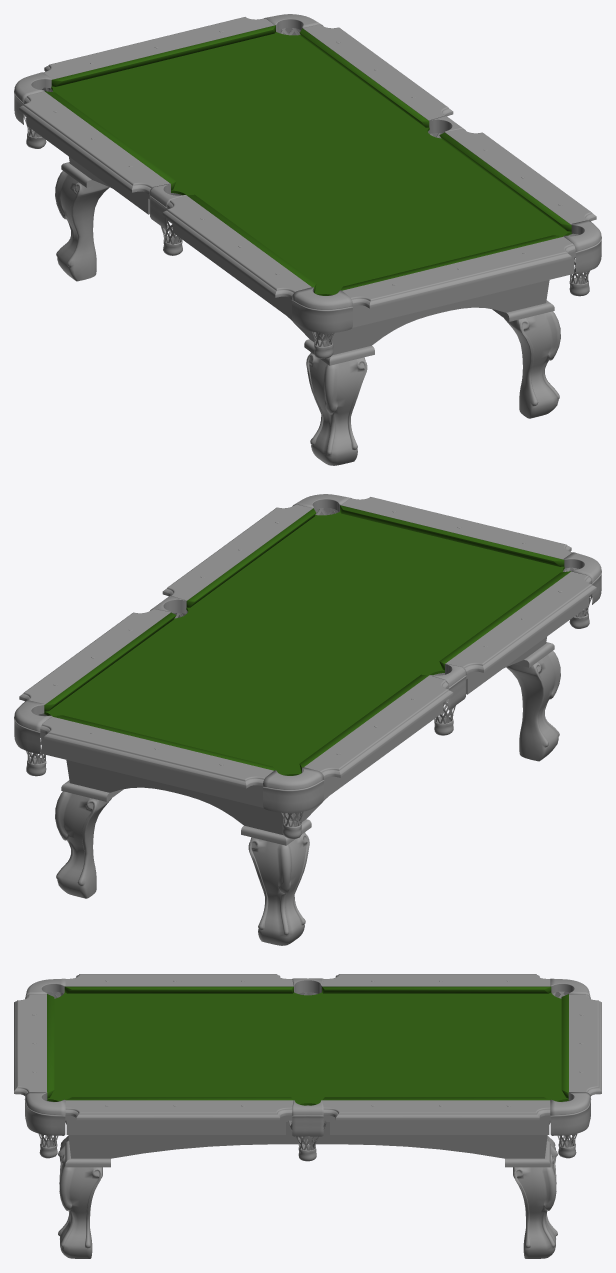
Rendered from Table1.FBX.
3 views of the same model, one above another, from view 1: azimuth 30°, elevation 25°; view 2: azimuth 150°, elevation 25°; view 3: azimuth 270°, elevation 25° (orthographic). The views are drawn at different scales.
Parts seen in each view (by area): view 1: Fabric, Base; view 2: Fabric, Base; view 3: Fabric, Base.
Boxes of the visible parts, bbox=[...] form: Fabric: bbox=[45, 25, 572, 295]; Base: bbox=[14, 14, 601, 465]; Fabric: bbox=[43, 505, 570, 775]; Base: bbox=[14, 494, 601, 945]; Fabric: bbox=[47, 986, 568, 1105]; Base: bbox=[14, 974, 601, 1258].
Bounding box in the file's own units: 149 × 81.58 × 260.
